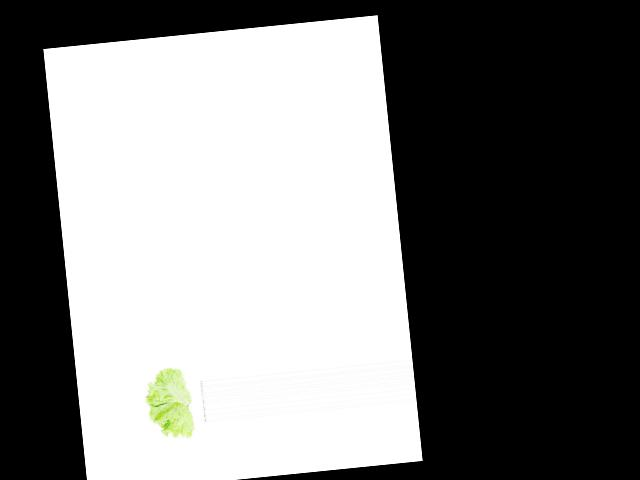lettuce: (141, 363, 204, 442)
